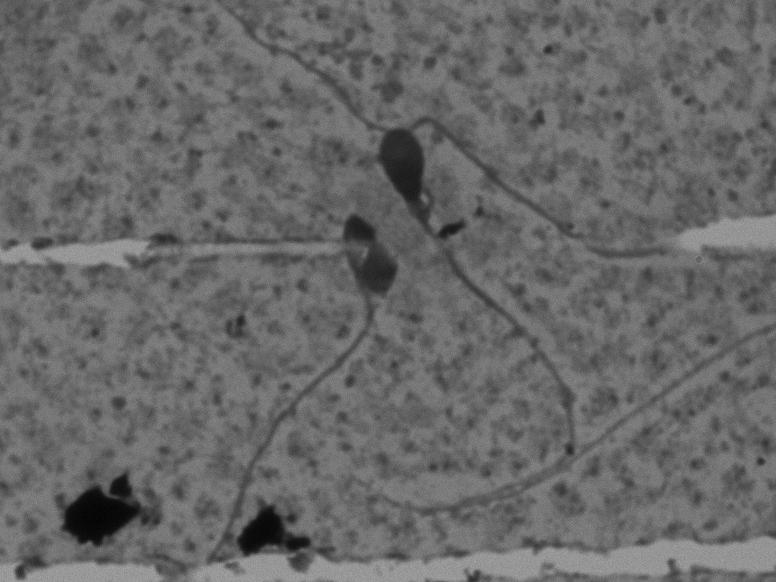Abnormal: (331, 112, 609, 524), (191, 201, 419, 578)
